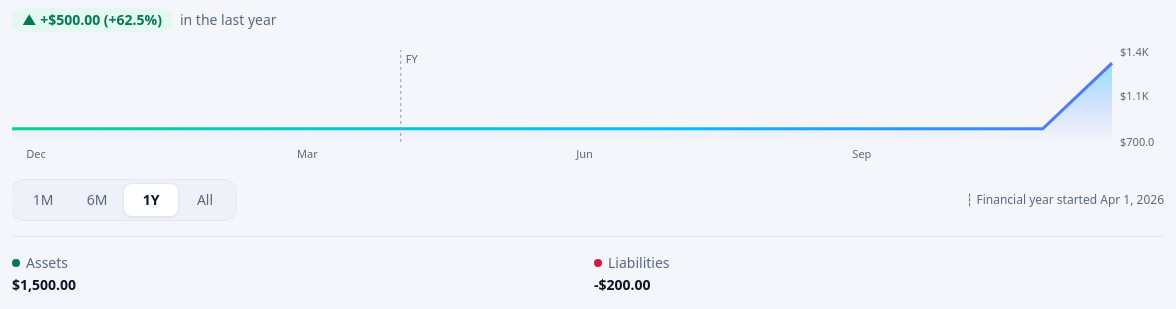
Test: NetWorthTrend › marks earlier imported history
The width and height of the screenshot is (1176, 309).
Click the radio button labelled "All".
click(205, 200)  # box [178,184,232,216]
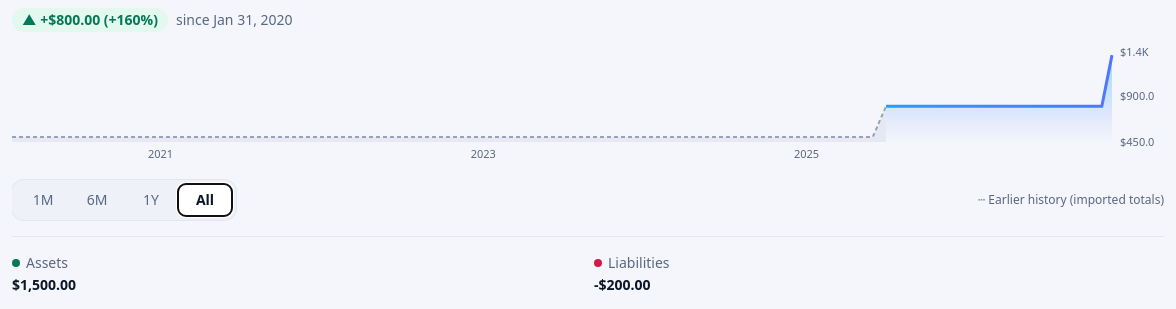
Now the text "┄ Earlier history (imported totals)" is shown, box [978,192,1164,208]
